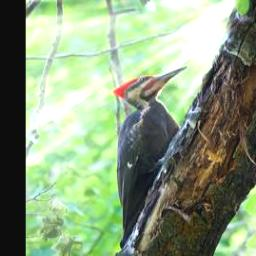Woodpecker: (111, 64, 190, 250)
